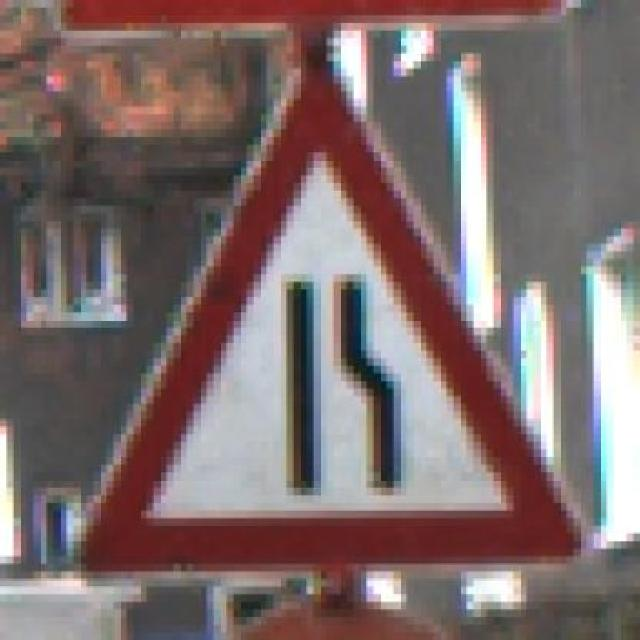-Road narrows on right: (67, 45, 587, 587)
